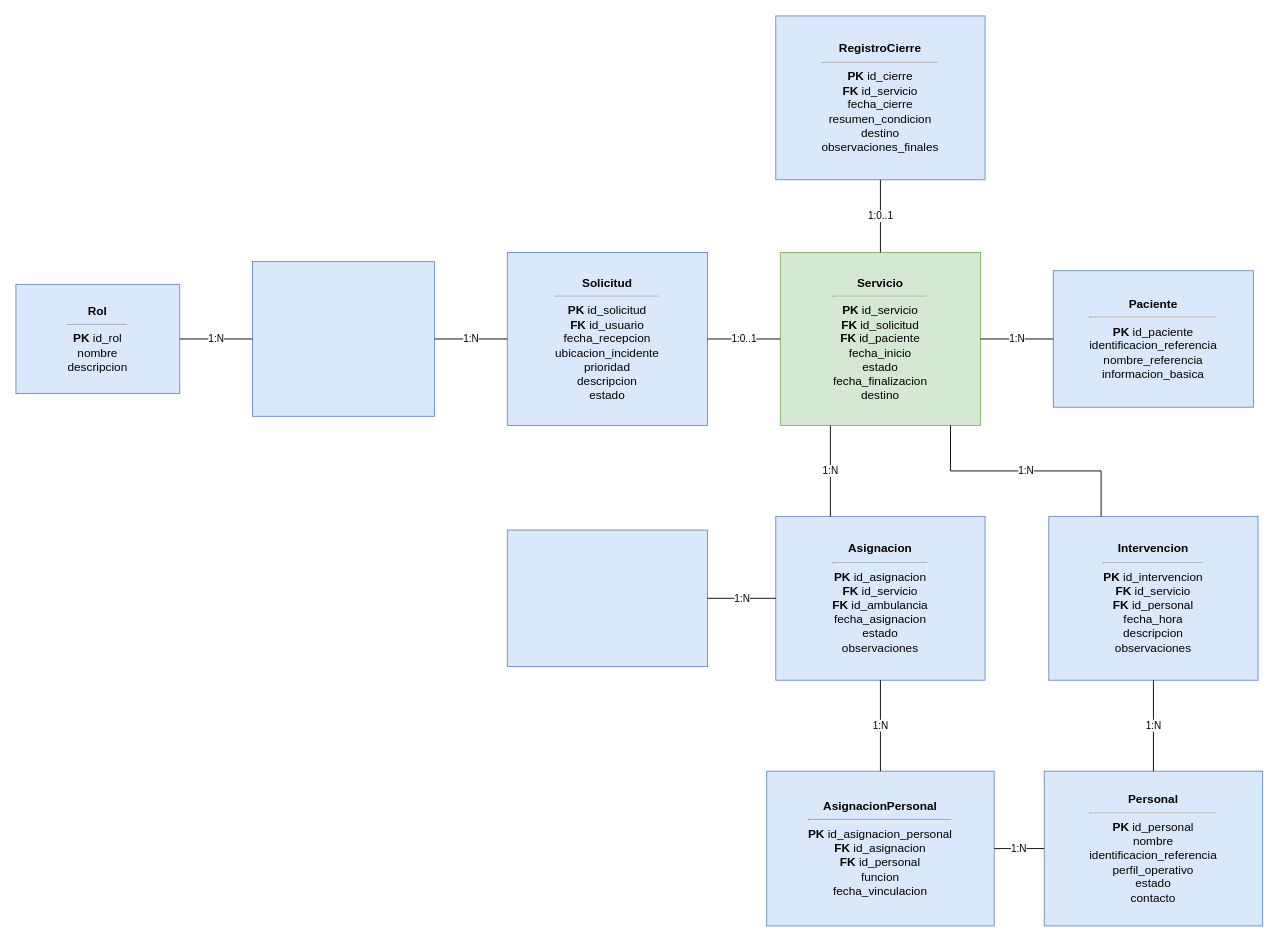
Some shapes in this 1279 by 942 pixel diagram are drawn without their labels. The shapes that lost their labels are listed below. From the top down, each one's box as (x1, y1, x2, y2) in pixels, then its label:
(252, 261, 435, 416): Usuario PK id_usuario FK id_rol nombre correo estado fecha_creacion
(506, 529, 708, 667): Ambulancia PK id_ambulancia placa tipo estado_operativo ubicacion_referencia
